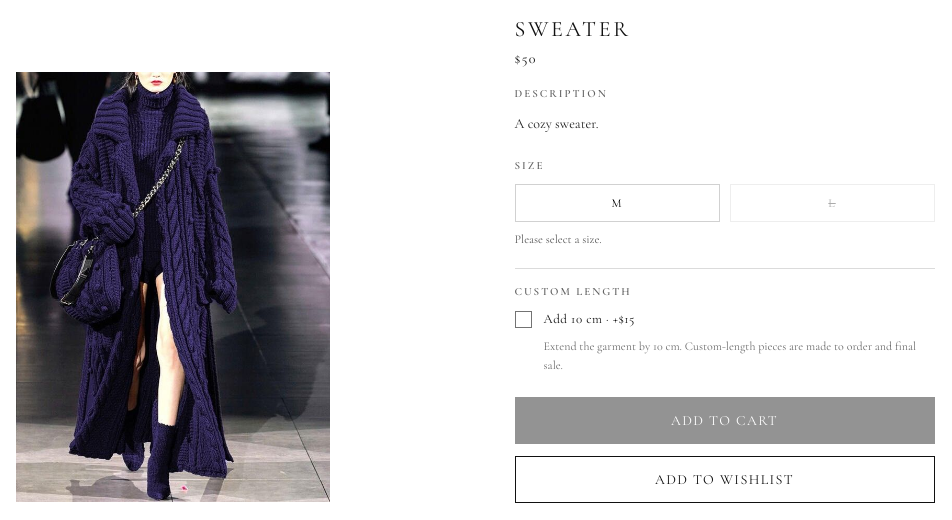
Test: ProductDetails - custom length pricing › adds custom-length surcharge to the displayed price when selected
Check: the heading "Sweater" is shown, box x1=514 y1=16 x2=631 y2=42
Check: the text "$50" is shown, box x1=514 y1=50 x2=537 y2=67
Click the checkbox. click: (523, 319)
box: x1=514 y1=311 x2=532 y2=328
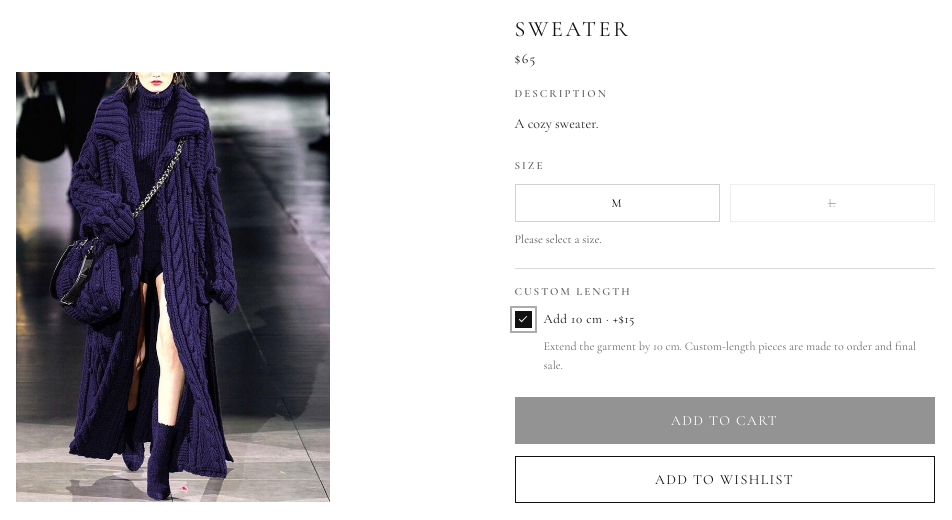
Check: the text "$65" is shown, box x1=514 y1=50 x2=537 y2=67
